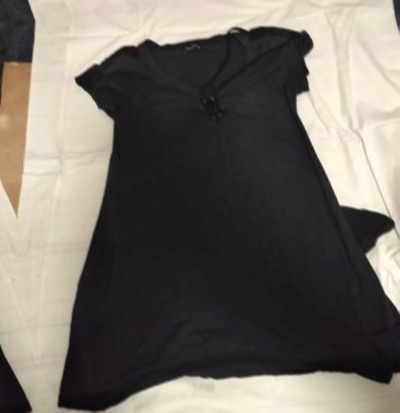Dress: (3, 0, 400, 413), (0, 46, 35, 413), (0, 0, 375, 8)
